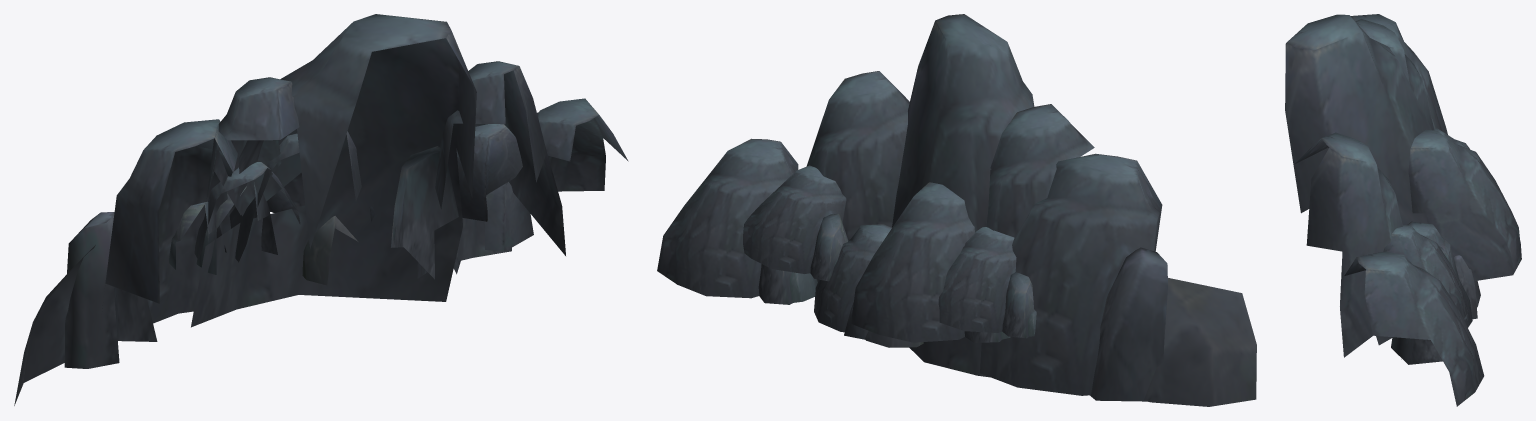
The model's file is Area_10_1.fbx.
3 renders of one model, left to right at view 1: azimuth 30°, elevation 25°; view 2: azimuth 150°, elevation 25°; view 3: azimuth 270°, elevation 25°, orthographic. The views are drawn at different scales.
Visible parts, largest first — view 1: Area_10_1; view 2: Area_10_1; view 3: Area_10_1.
Part boxes in pixels (box(x1,y1,x2,y2)): Area_10_1: box(14, 14, 628, 405); Area_10_1: box(657, 14, 1256, 406); Area_10_1: box(1285, 14, 1521, 406).
Size of the model in its own units: 10260 by 4976 by 3718.
